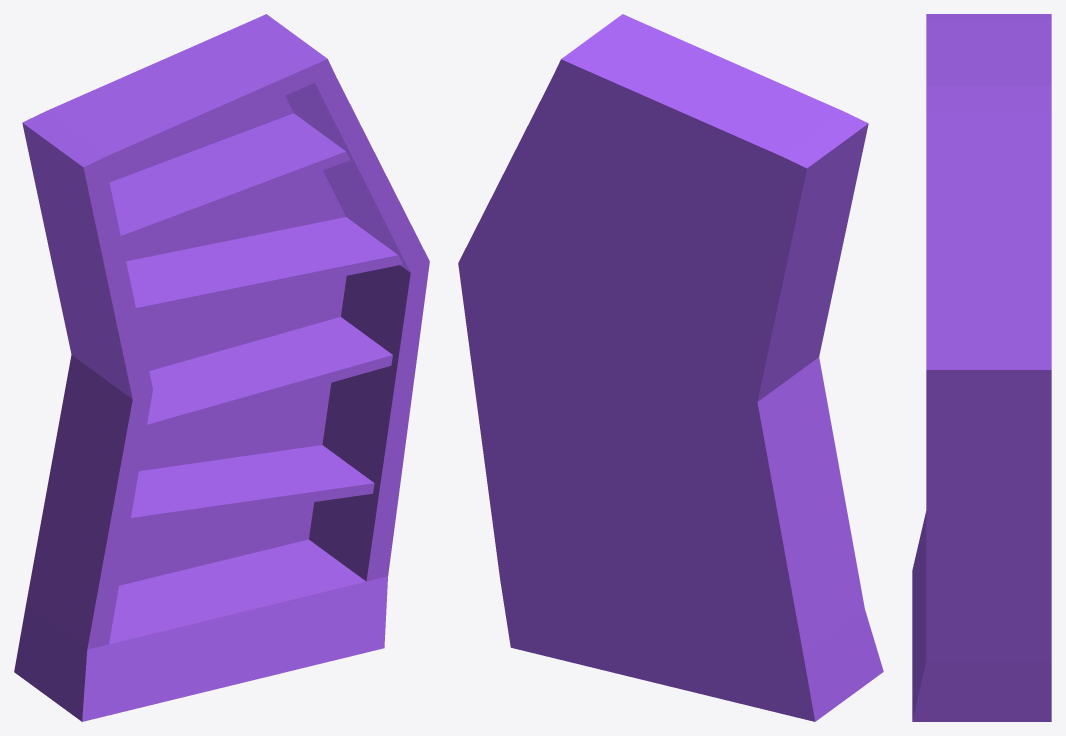
Rendered from Bookcase_B.fbx.
3 views of the same model, side by side, from view 1: azimuth 30°, elevation 25°; view 2: azimuth 150°, elevation 25°; view 3: azimuth 270°, elevation 25° (orthographic). The views are drawn at different scales.
Visible parts, largest first — view 1: bookcase_B; view 2: bookcase_B; view 3: bookcase_B.
Part boxes in pixels (left/top/right/bottom): bookcase_B: left=14, top=14, right=429, bottom=721; bookcase_B: left=458, top=14, right=883, bottom=721; bookcase_B: left=912, top=14, right=1051, bottom=721.
Size of the model in its own units: 200 by 322 by 66.51.
1 material, 1 textured.
